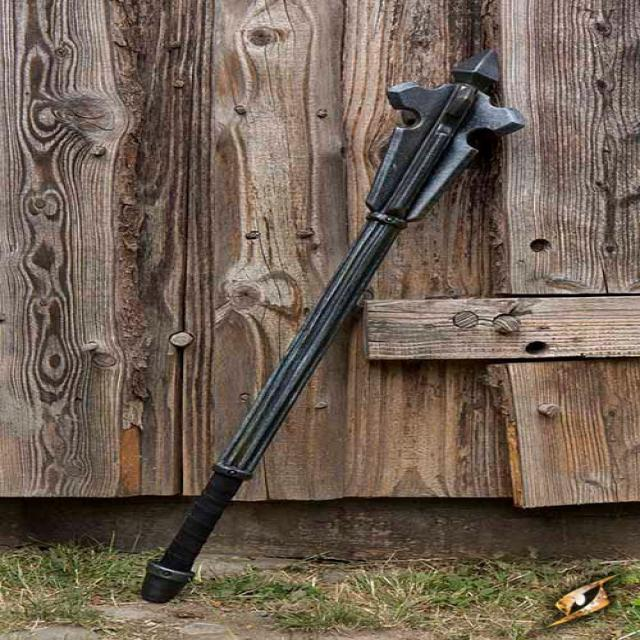mace: (142, 50, 530, 607)
